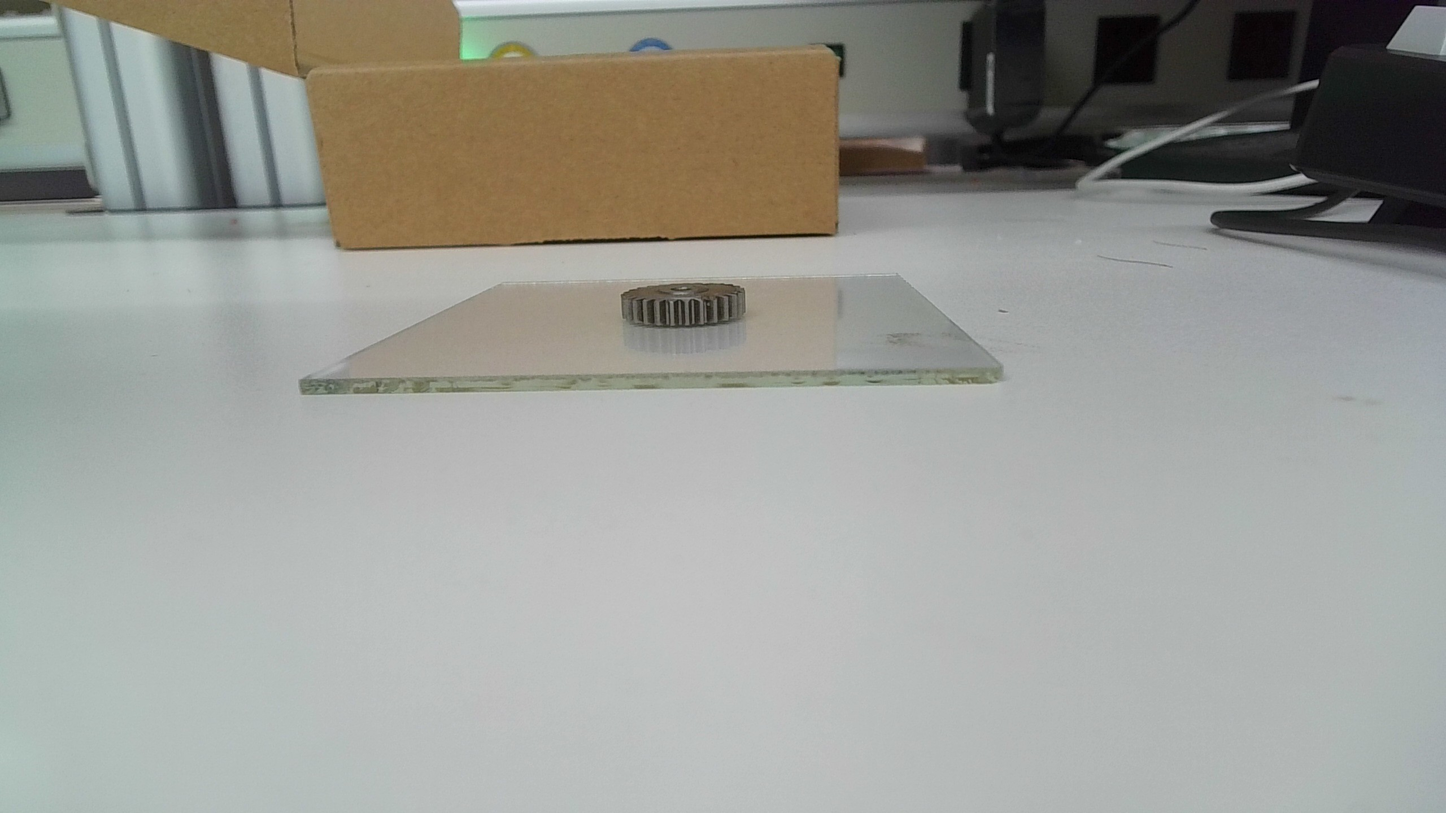gear: (617, 281, 751, 328)
